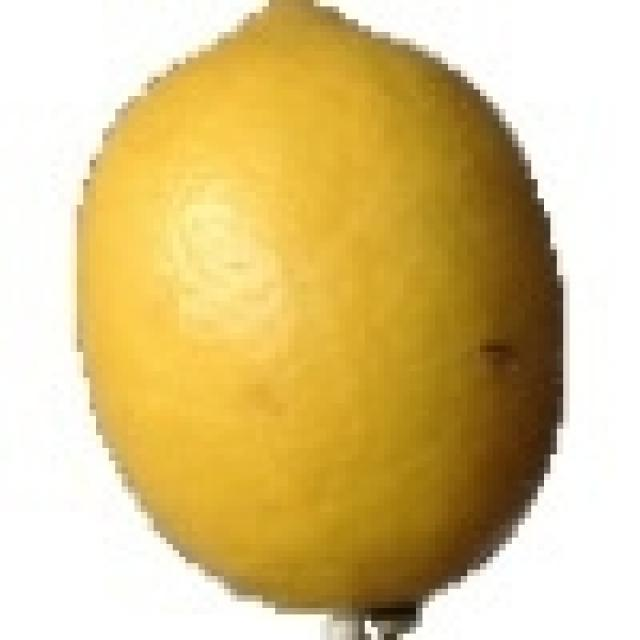lemon: (79, 0, 561, 620)
